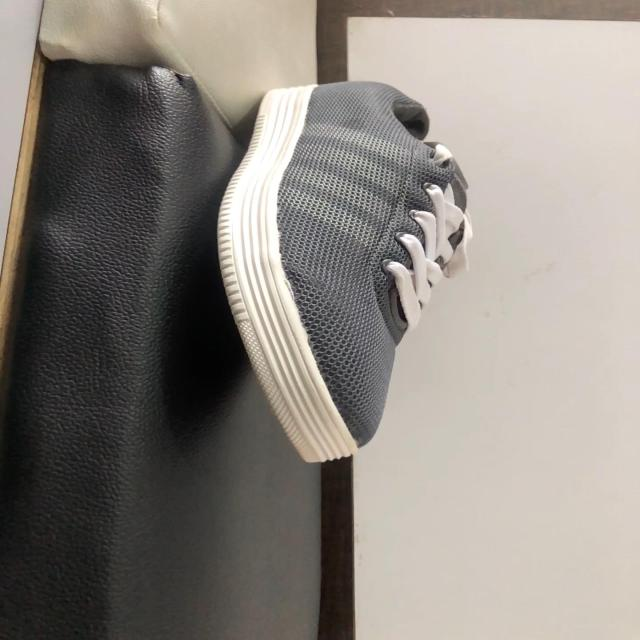shoe: (216, 82, 472, 466)
